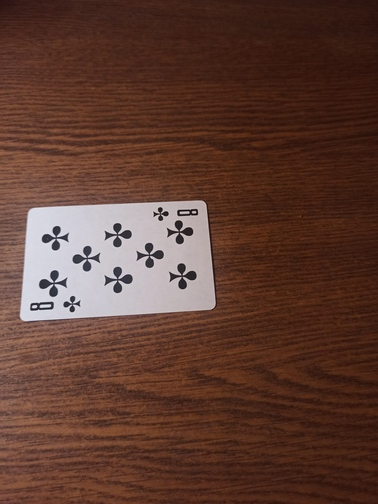eightclubs: (20, 198, 216, 318)
